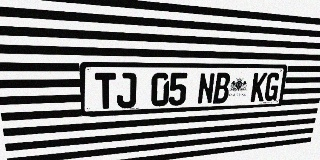0: (151, 73, 170, 107)
5: (169, 73, 188, 106)
B: (213, 73, 231, 104)
G: (263, 73, 281, 101)
J: (116, 73, 136, 108)
K: (250, 73, 267, 102)
N: (197, 73, 215, 104)
T: (95, 73, 116, 109)
